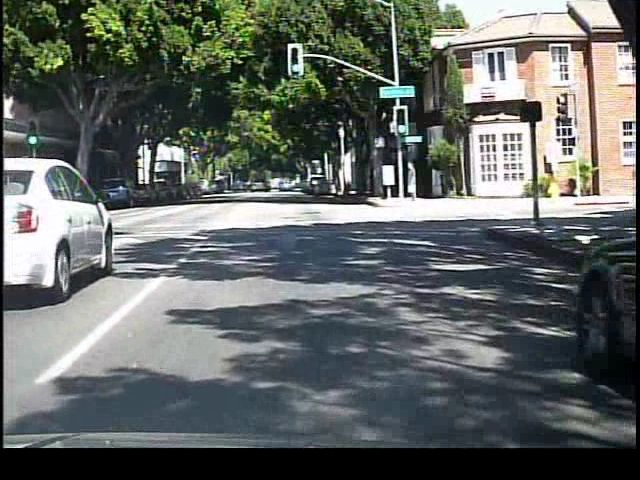person: (406, 157, 426, 208)
